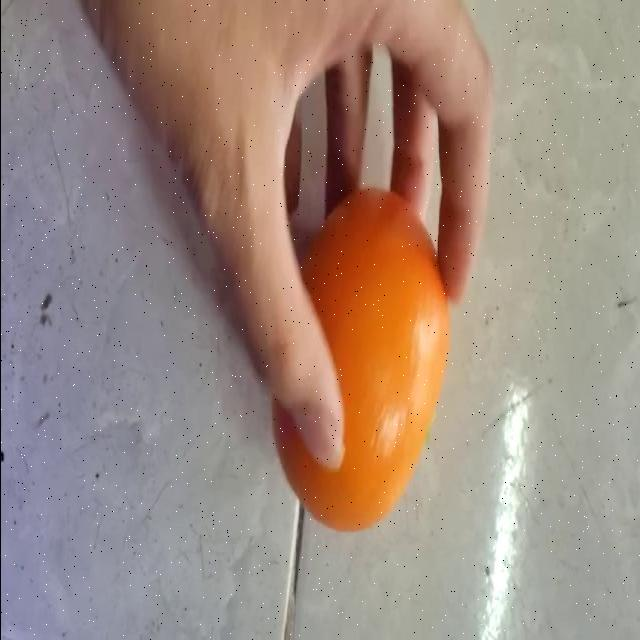Orange: (272, 186, 452, 533)
